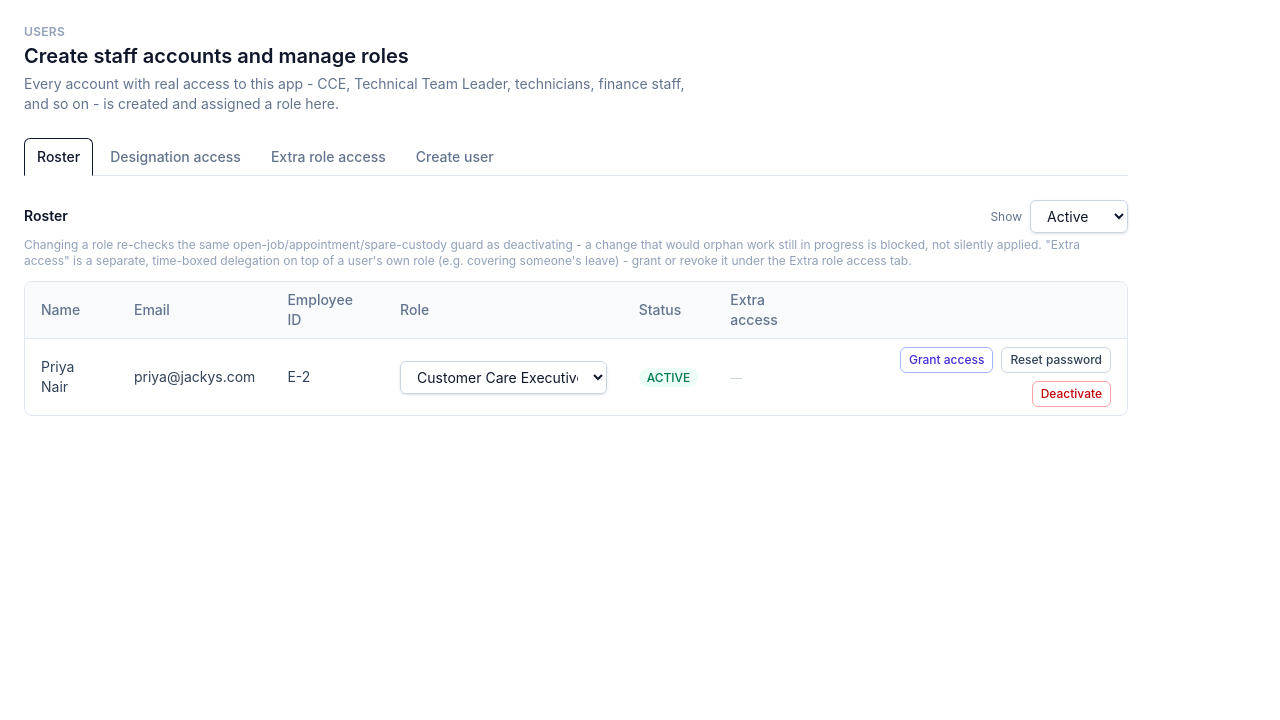
Test case: UsersPage - reset password › blocks submit and shows a mismatch warning when the two password fields differ
Click the button "Reset password" at (1056, 360), box [1001,347,1111,373]
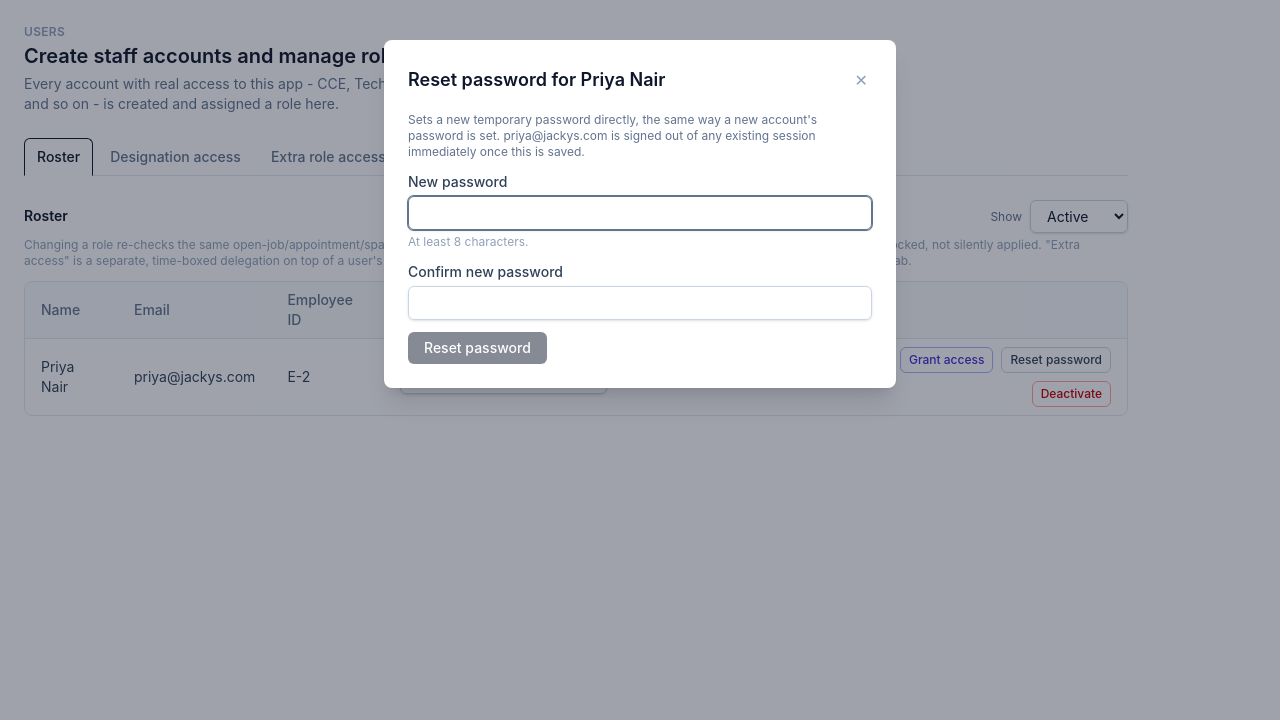
Type "Welcome2026!" into the field labelled "New password At least 8 characters." at (640, 213), box [408,196,872,230]
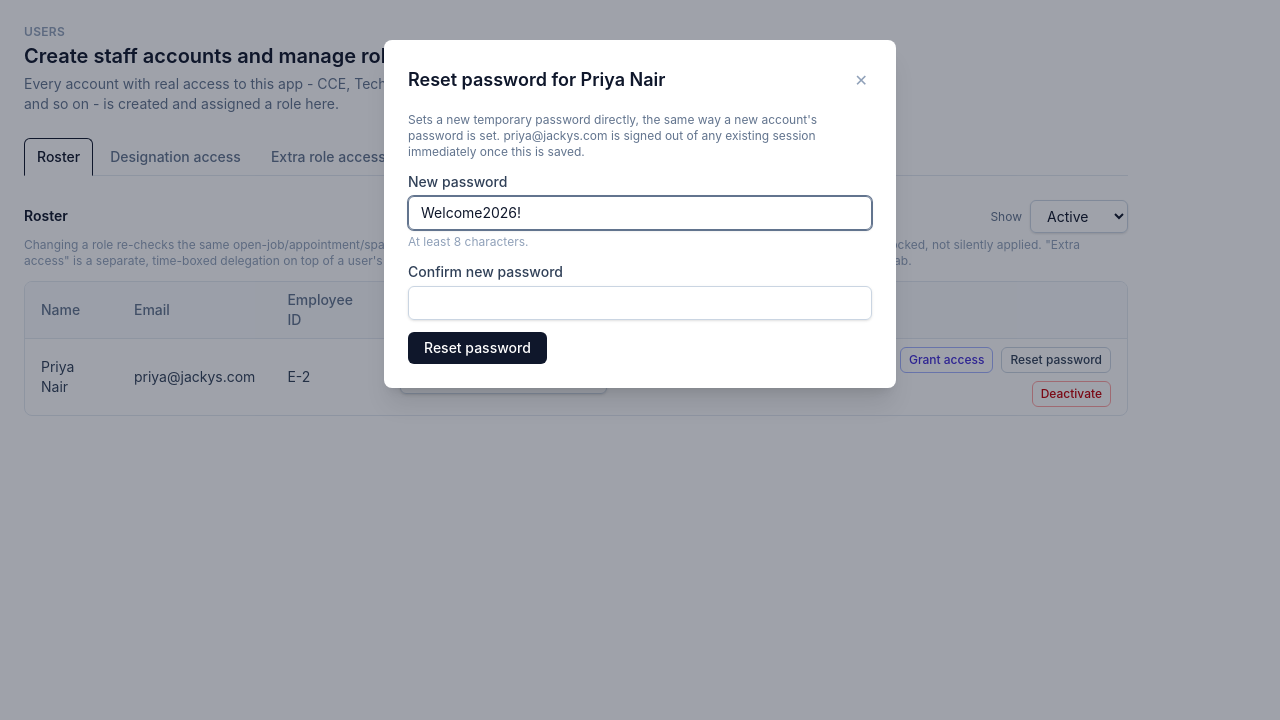
Type "Different2026!" into the field labelled "Confirm new password" at (640, 303), box [408,286,872,320]
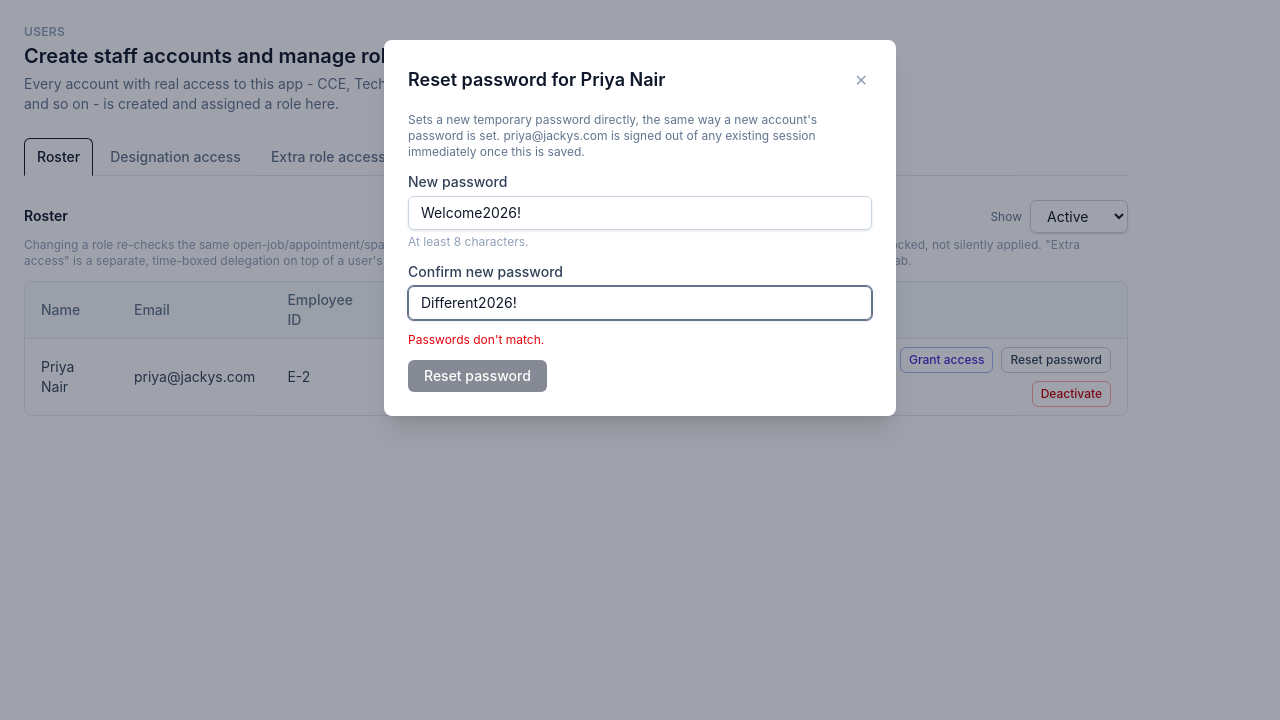
Result: the text "Passwords don't match." is shown at [408,332,544,347]
Result: the button "Reset password" is disabled at [408,360,547,392]
